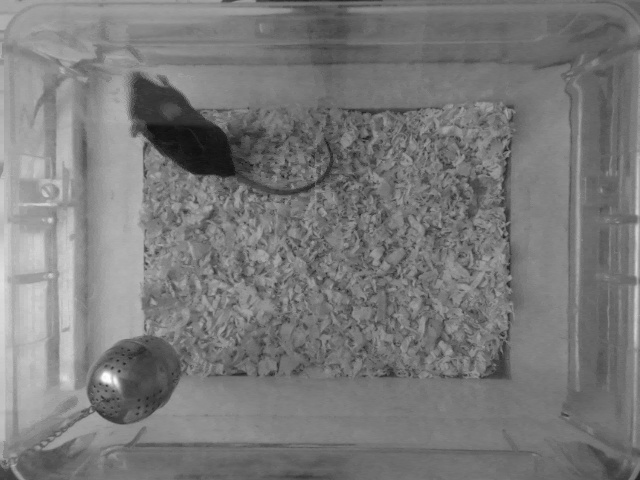mice: (124, 67, 340, 193)
